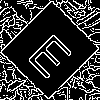E: (25, 25, 81, 81)
